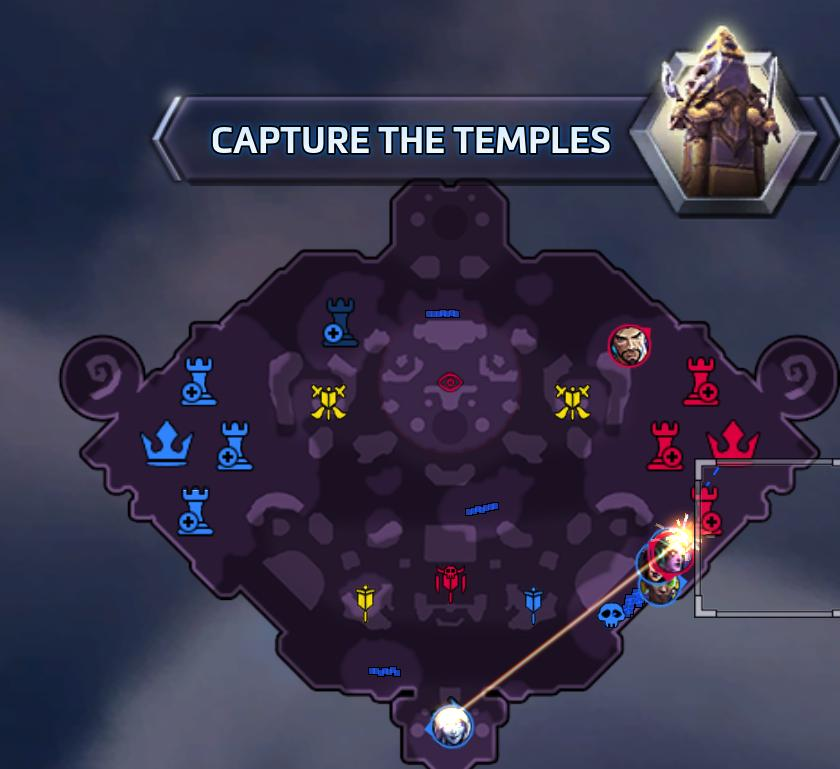blue nexus: (137, 414, 201, 470)
blue player: (419, 702, 479, 751), (639, 564, 687, 606)
blue tower: (215, 418, 254, 471), (178, 355, 218, 406), (320, 295, 359, 347), (176, 485, 214, 536)
red nexus: (704, 419, 761, 466)
red player: (644, 526, 696, 580), (607, 323, 650, 367)
red tower: (680, 355, 720, 406), (645, 419, 684, 471), (691, 479, 723, 537)
